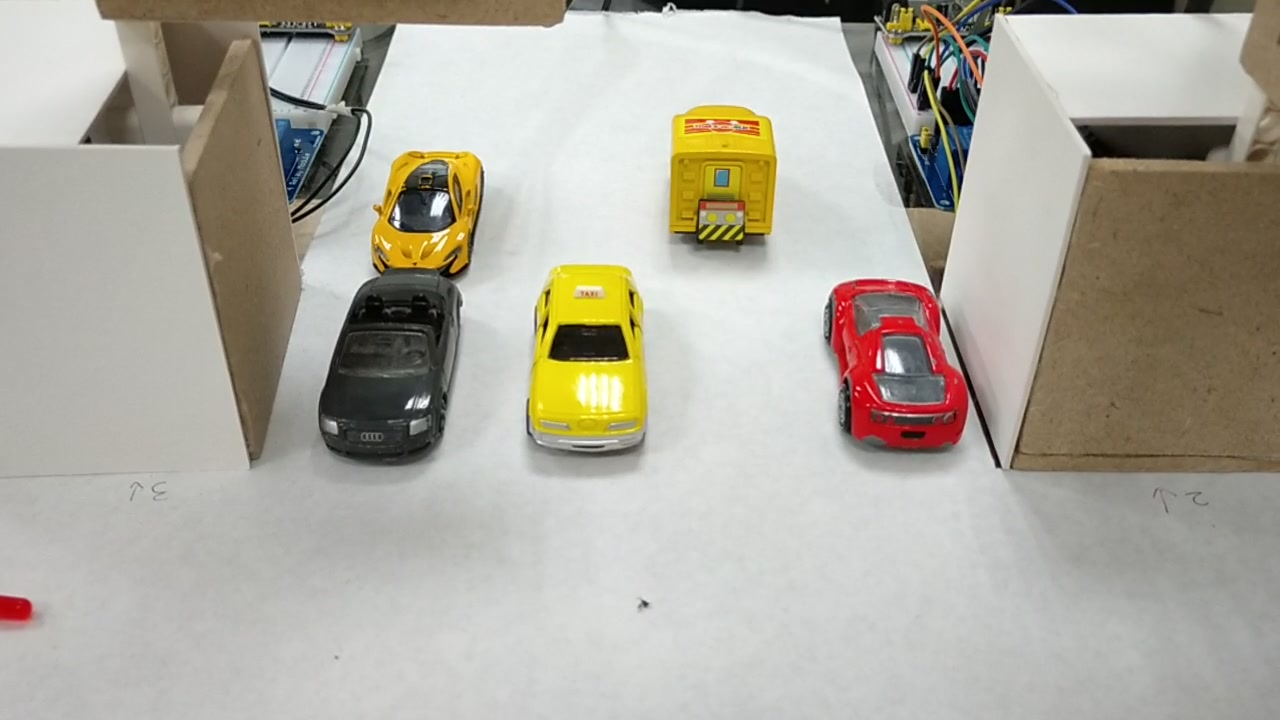car: (319, 260, 458, 459), (516, 266, 653, 463), (822, 281, 969, 460), (364, 147, 483, 278)
